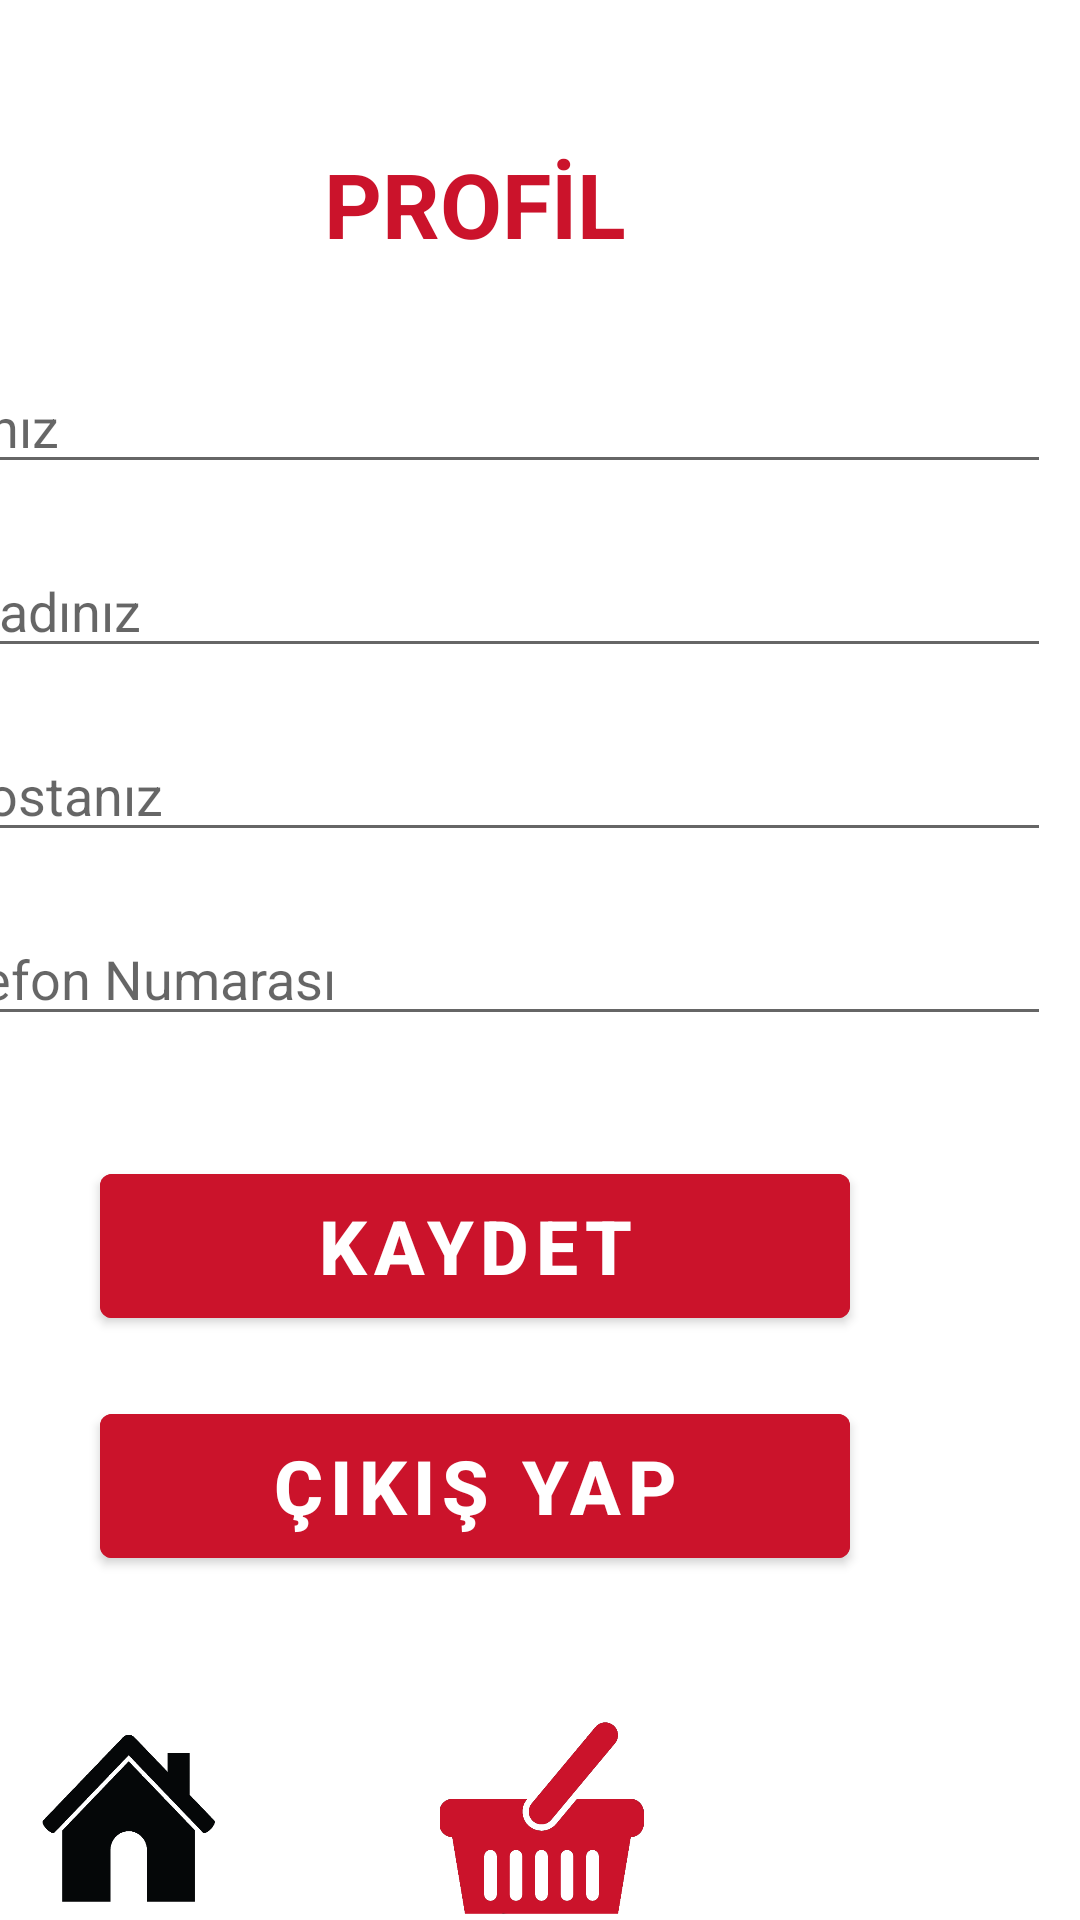

Screen size 1080w x 1920h. Icon name, then its center in pixels as (x,y):
shopping cart: (542,1818)
